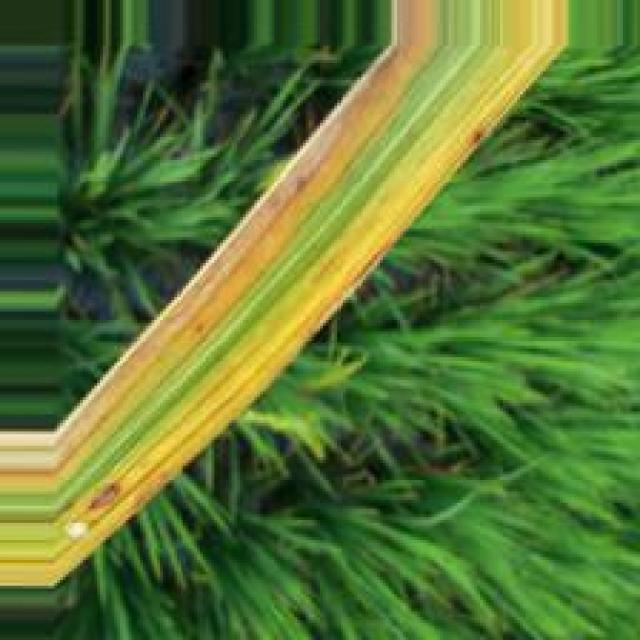Bacterial_Leaf_Blight: (65, 46, 565, 549), (1, 1, 442, 484)
